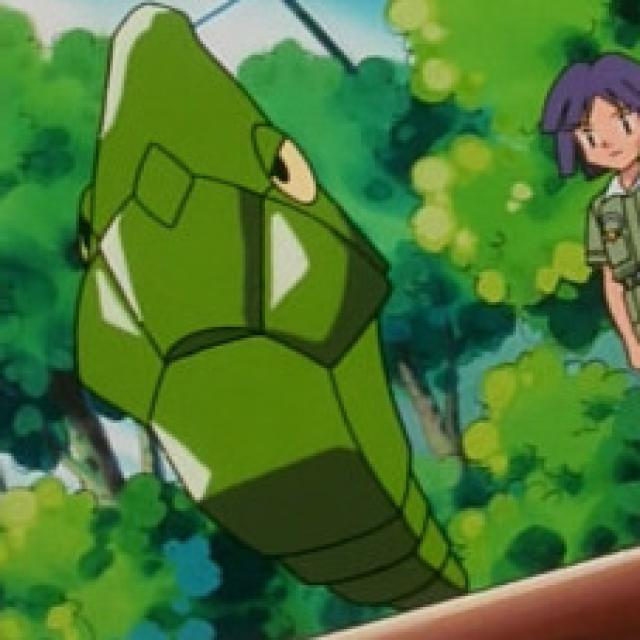Metapod: (67, 8, 420, 582)
